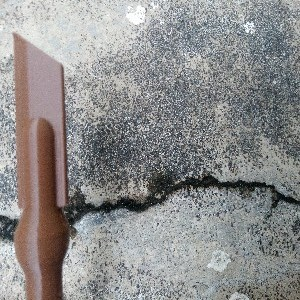cutter: (11, 30, 72, 300)
